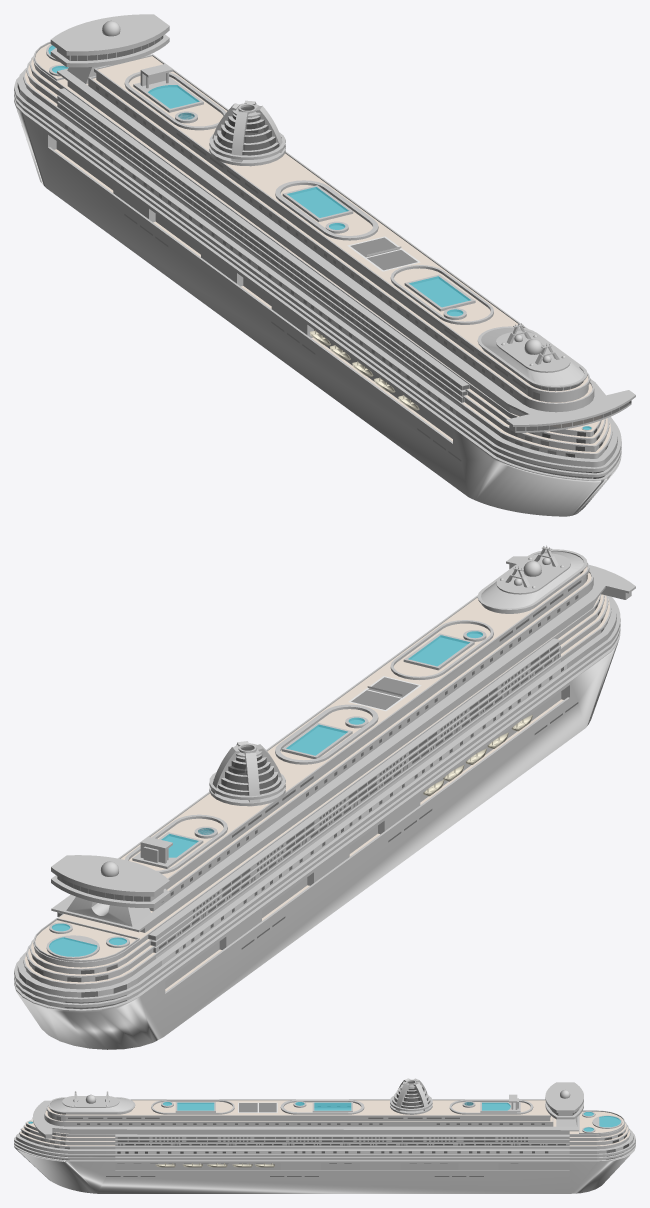
File: cruise_ship.glb
The picture shows the model from 3 angles, top to bottom: view 1: azimuth 30°, elevation 25°; view 2: azimuth 150°, elevation 25°; view 3: azimuth 270°, elevation 25°; orthographic projection. The views are drawn at different scales.
Visible parts, largest first — view 1: Object_15, Object_13, Object_10, Object_16, Object_9, Object_12, Object_8, Object_11, Object_3, Object_4, Object_17; view 2: Object_15, Object_13, Object_10, Object_16, Object_9, Object_12, Object_11, Object_8, Object_3, Object_4, Object_17; view 3: Object_15, Object_13, Object_16, Object_10, Object_8, Object_9, Object_3, Object_12, Object_11, Object_17, Object_4.
Part boxes in pixels (x1,y1,x2,y2): Object_15: (14, 41, 621, 516); Object_13: (65, 54, 594, 412); Object_10: (24, 43, 610, 453); Object_16: (57, 54, 635, 432); Object_9: (17, 36, 631, 478); Object_12: (50, 14, 565, 365); Object_8: (51, 110, 525, 416); Object_11: (48, 45, 591, 429); Object_3: (56, 141, 452, 438); Object_4: (350, 237, 417, 270); Object_17: (310, 330, 419, 410); Object_15: (14, 594, 620, 1049); Object_13: (65, 549, 593, 927); Object_10: (24, 566, 609, 991); Object_16: (51, 556, 635, 932); Object_9: (19, 570, 607, 1009); Object_12: (51, 557, 564, 907); Object_11: (49, 631, 482, 956); Object_8: (156, 597, 598, 965); Object_3: (165, 691, 561, 988); Object_4: (351, 677, 418, 709); Object_17: (423, 714, 532, 796); Object_15: (14, 1110, 635, 1193); Object_13: (44, 1079, 578, 1126); Object_16: (32, 1078, 578, 1138); Object_10: (20, 1100, 629, 1145); Object_8: (52, 1129, 569, 1160); Object_9: (18, 1081, 628, 1176); Object_3: (115, 1141, 569, 1169); Object_12: (73, 1082, 583, 1119); Object_11: (28, 1102, 620, 1131); Object_17: (155, 1163, 274, 1167); Object_4: (239, 1103, 276, 1112).
Size of the model in its own units: 3460 by 4613 by 27045.
Materials: 11 (2 with a texture image).
